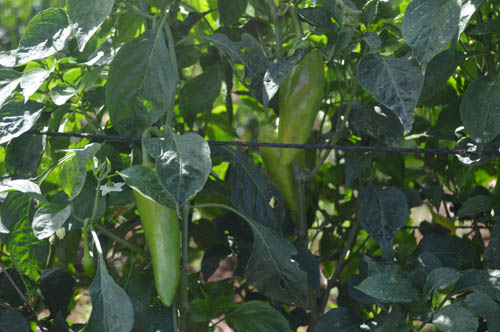ChiliPepper: (275, 50, 322, 177), (139, 180, 181, 313), (260, 130, 300, 207)
